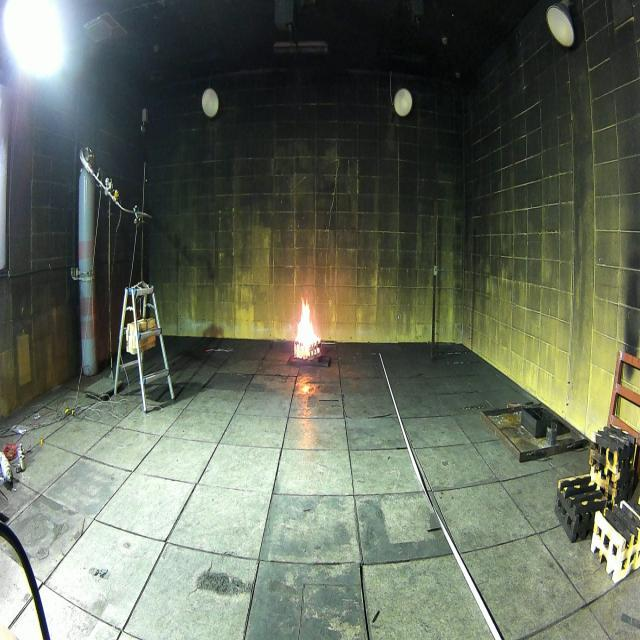Fire: (294, 292, 320, 359)
